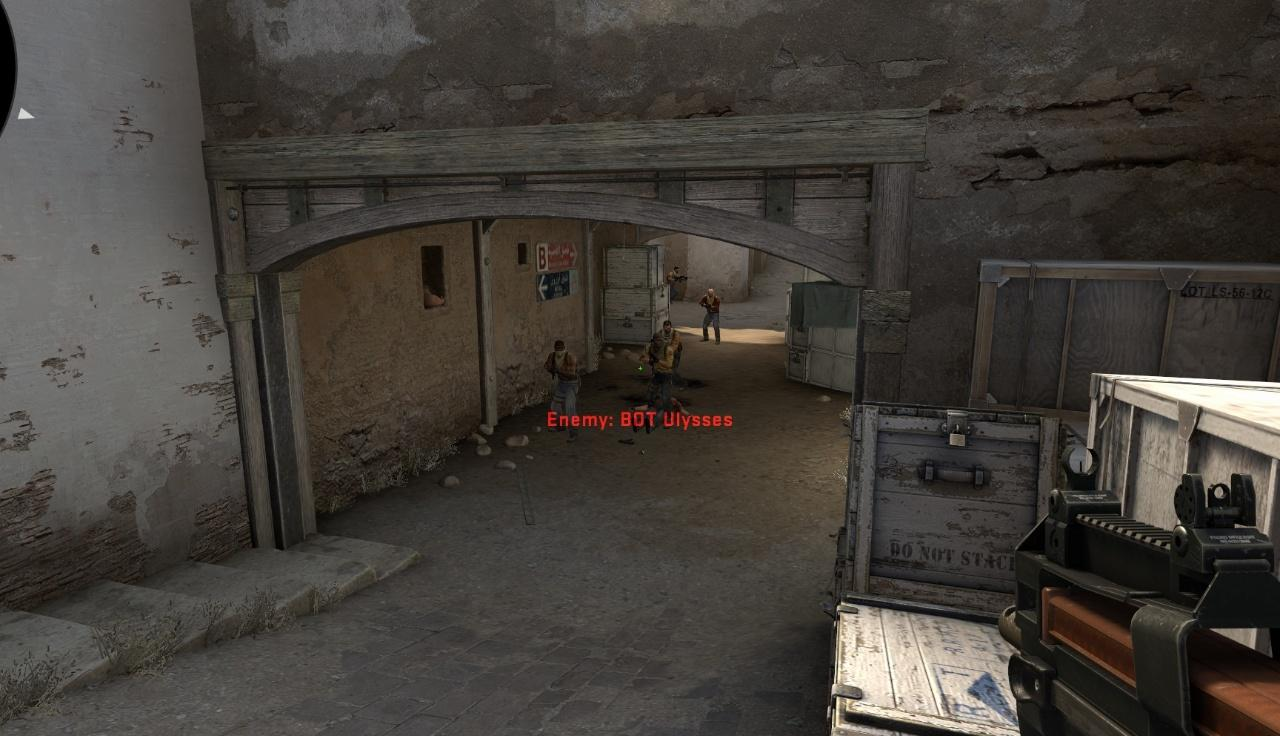rifle: (999, 444, 1280, 736)
tt: (545, 340, 580, 442), (640, 334, 674, 426), (700, 288, 721, 345), (667, 267, 680, 305)
tthead: (554, 340, 565, 358), (652, 334, 664, 350), (662, 320, 672, 334), (708, 289, 714, 297), (674, 267, 680, 274)
